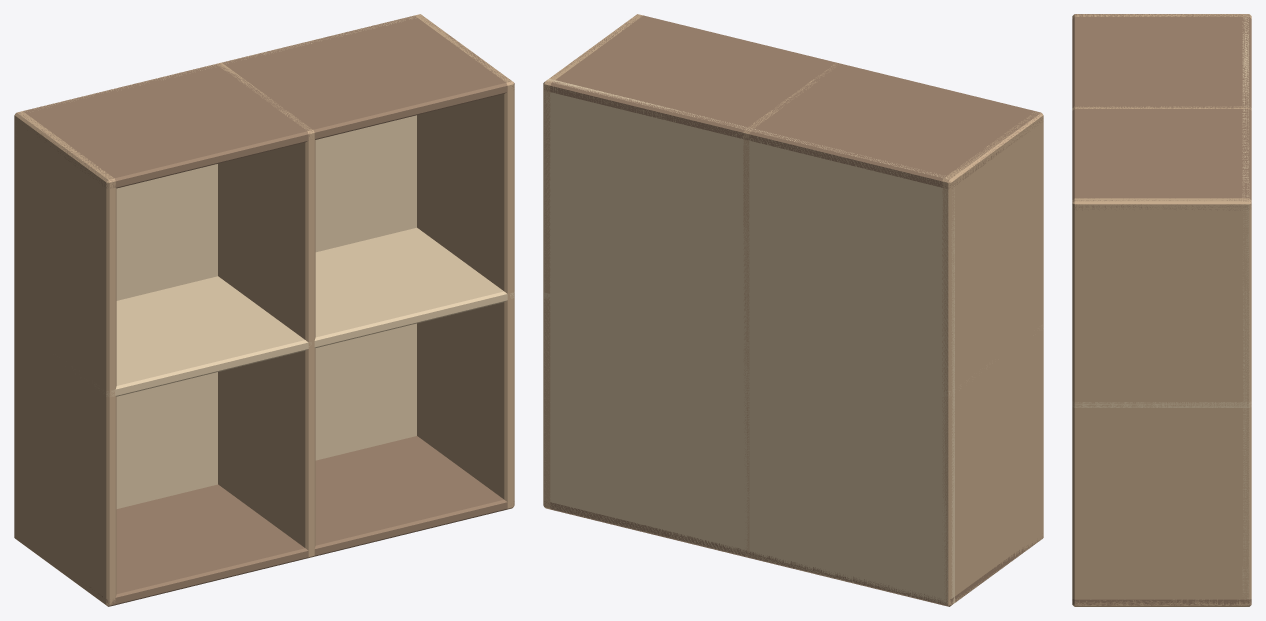
The picture shows the model from 3 angles, left to right: view 1: azimuth 30°, elevation 25°; view 2: azimuth 150°, elevation 25°; view 3: azimuth 270°, elevation 25°; orthographic projection. The views are drawn at different scales.
Visible parts, largest first — view 1: SpaceSaver_WallSys_Cube_2x2; view 2: SpaceSaver_WallSys_Cube_2x2; view 3: SpaceSaver_WallSys_Cube_2x2.
Boxes of the visible parts, box(x1,y1,x2,y2) form: SpaceSaver_WallSys_Cube_2x2: box(14, 14, 514, 606); SpaceSaver_WallSys_Cube_2x2: box(543, 14, 1043, 606); SpaceSaver_WallSys_Cube_2x2: box(1072, 14, 1251, 606).
Size of the model in its own units: 0.8 by 0.8 by 0.32.
